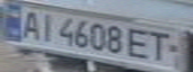0: (87, 20, 109, 52)
4: (54, 16, 78, 46)
6: (69, 18, 90, 50)
8: (103, 24, 127, 56)
A: (18, 7, 45, 40)
E: (124, 27, 154, 61)
I: (33, 11, 60, 43)
T: (145, 29, 181, 65)
